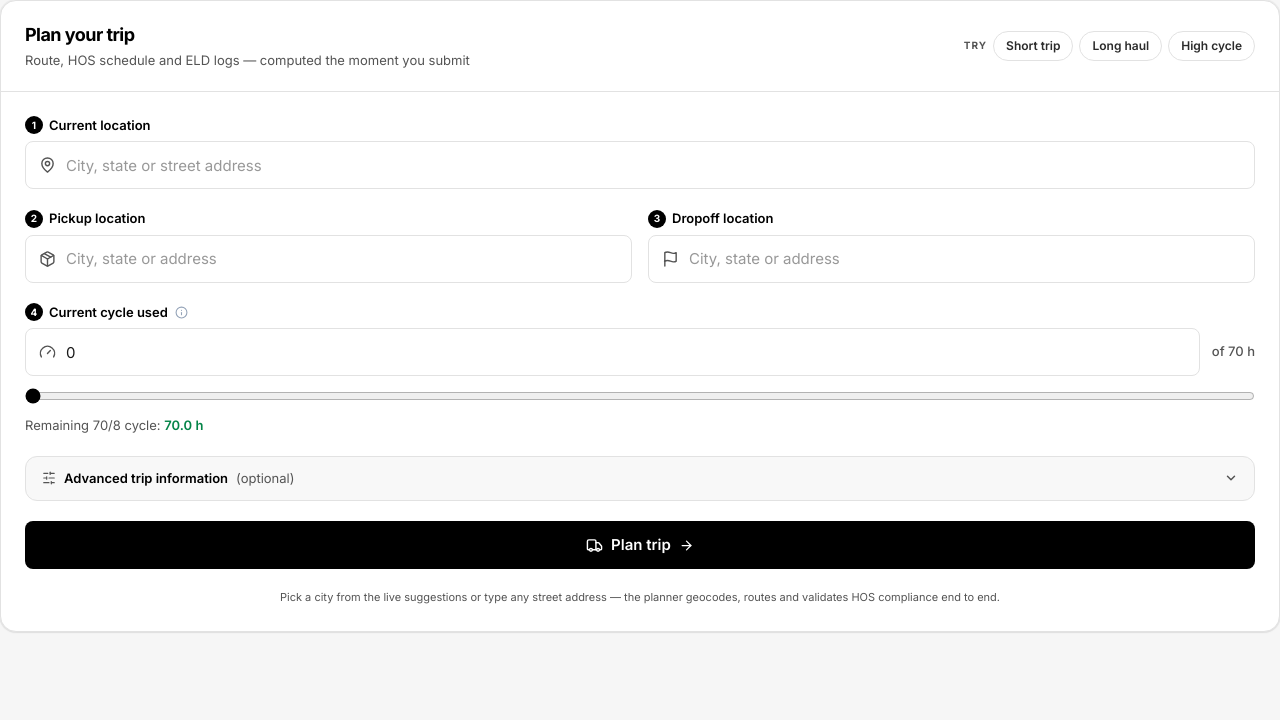
Scenario: TripPlannerForm — user-visible behavior › shows the remaining cycle for the entered value
Step 1. Replace the text in the number field labelled "4 Current cycle used" with "30" → (612, 352), box [25, 328, 1200, 376]
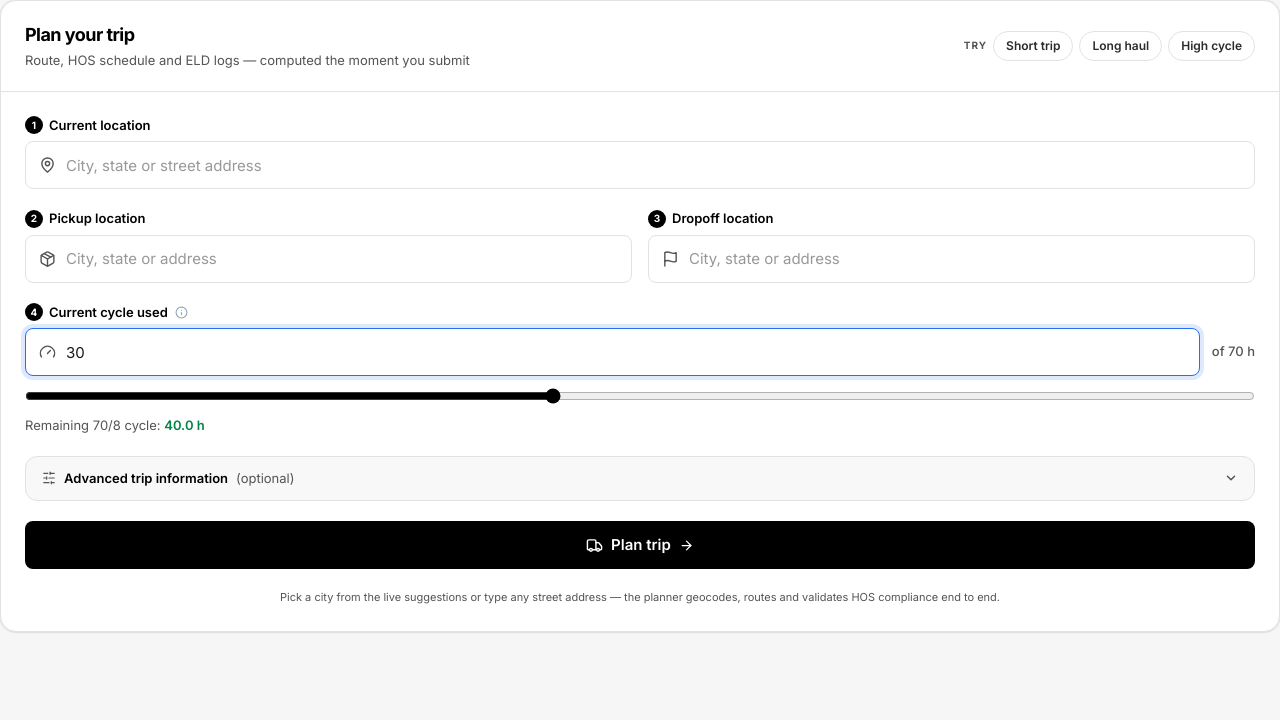
Now the text "Remaining 70/8 cycle: 40.0 h" is shown, box [25, 417, 205, 433]
